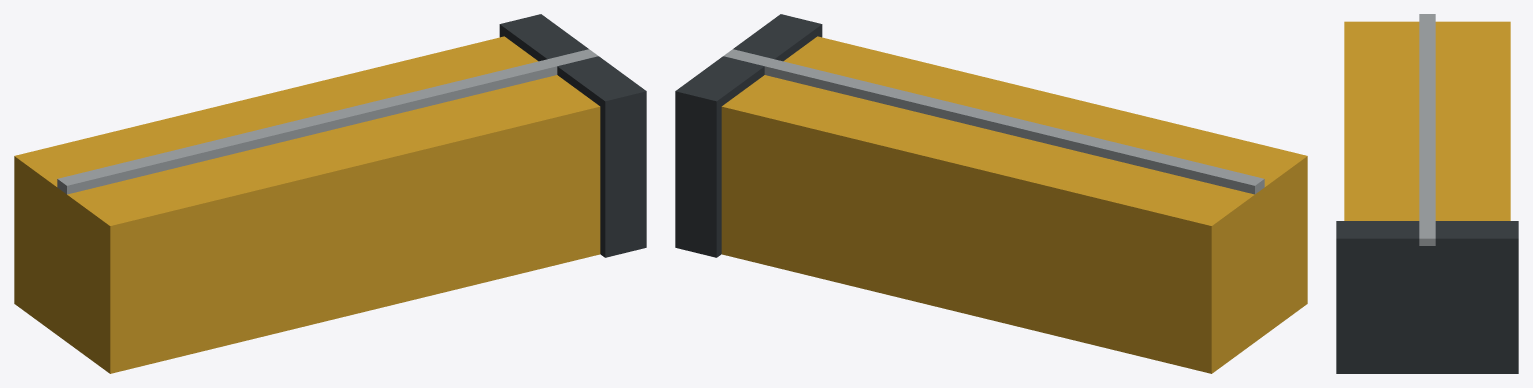
The model's file is mobile_crane_boom_stage_1.glb.
3 renders of one model, left to right at view 1: azimuth 30°, elevation 25°; view 2: azimuth 150°, elevation 25°; view 3: azimuth 270°, elevation 25°, orthographic. The views are drawn at different scales.
Visible parts, largest first — view 1: body:compound; view 2: body:compound; view 3: body:compound.
Boxes of the visible parts, <box> form: body:compound: <box>14,14,646,373</box>; body:compound: <box>675,14,1307,373</box>; body:compound: <box>1336,14,1518,373</box>.
Size of the model in its own units: 2 by 0.5625 by 0.6875.
